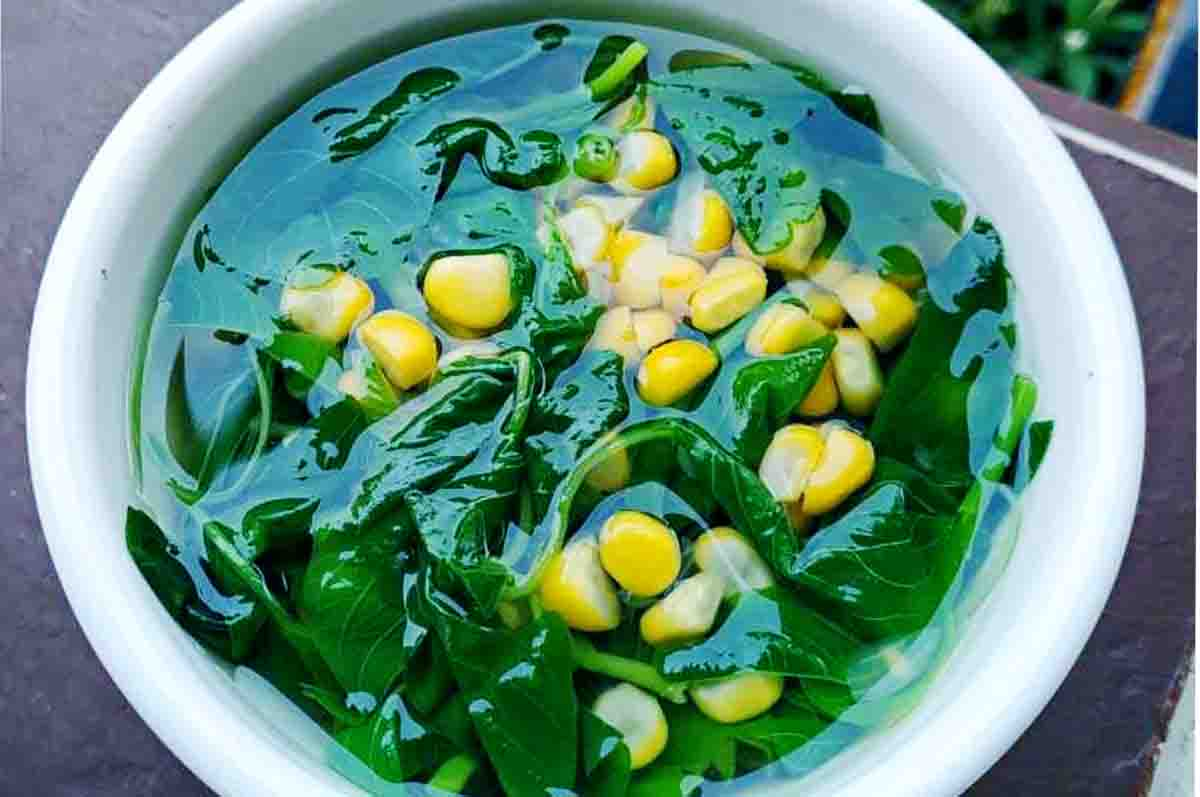Sayur Bayam: (21, 32, 1063, 794)
